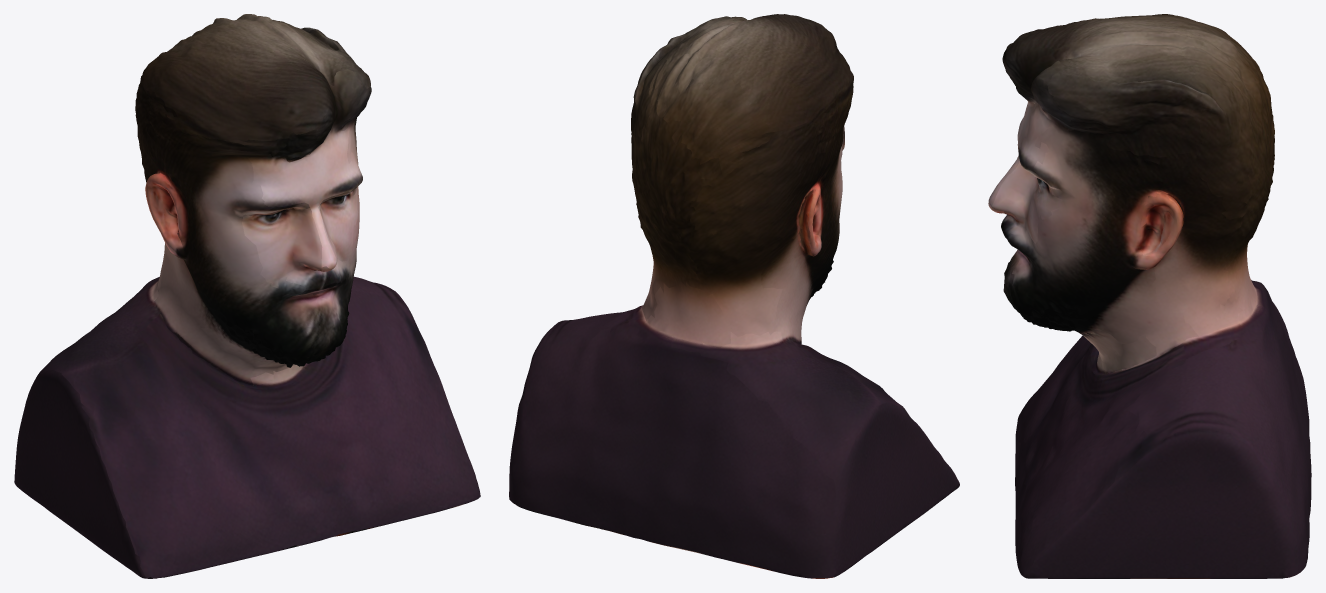
The model's file is azad.glb.
3 renders of one model, left to right at view 1: azimuth 30°, elevation 25°; view 2: azimuth 150°, elevation 25°; view 3: azimuth 270°, elevation 25°, orthographic. The views are drawn at different scales.
Parts seen in each view (by area): view 1: tmp78brhi_7.ply; view 2: tmp78brhi_7.ply; view 3: tmp78brhi_7.ply.
Part boxes in pixels (x1=…): tmp78brhi_7.ply: x1=14, y1=14, x2=480, y2=578; tmp78brhi_7.ply: x1=509, y1=14, x2=959, y2=578; tmp78brhi_7.ply: x1=988, y1=14, x2=1311, y2=578.
Bounding box in the file's own units: 1.51 × 1.96 × 1.21.
Materials: 1 (1 with a texture image).
